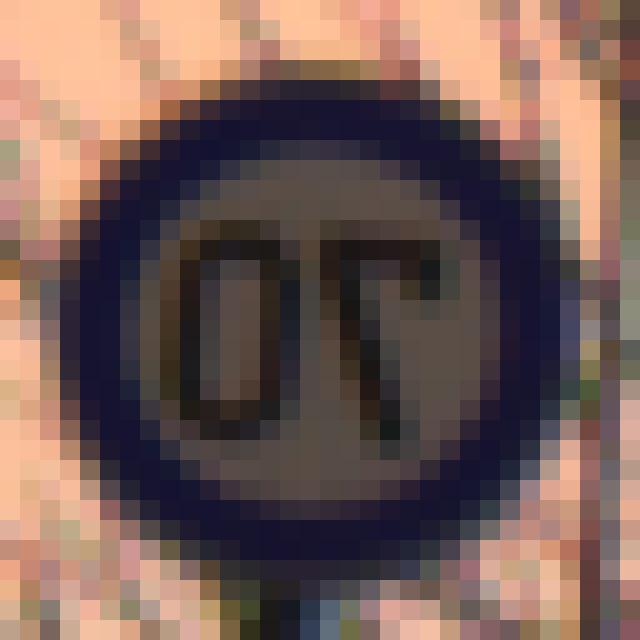SPEED LIMIT 70: (64, 97, 550, 584)
